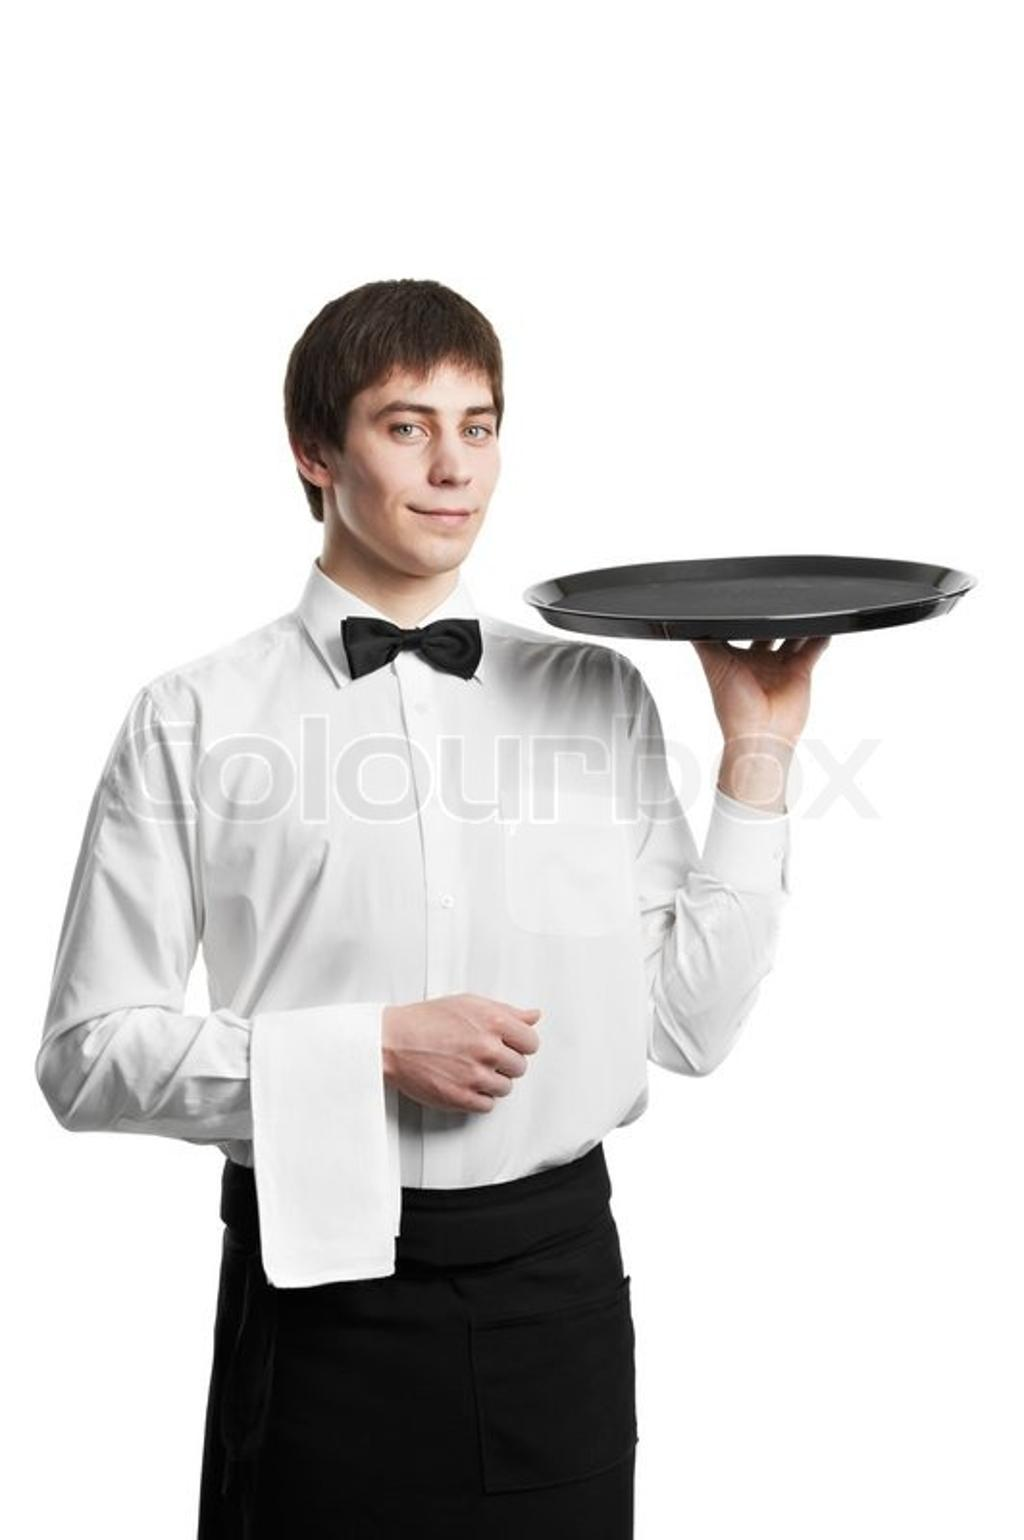face: (325, 319, 500, 569)
